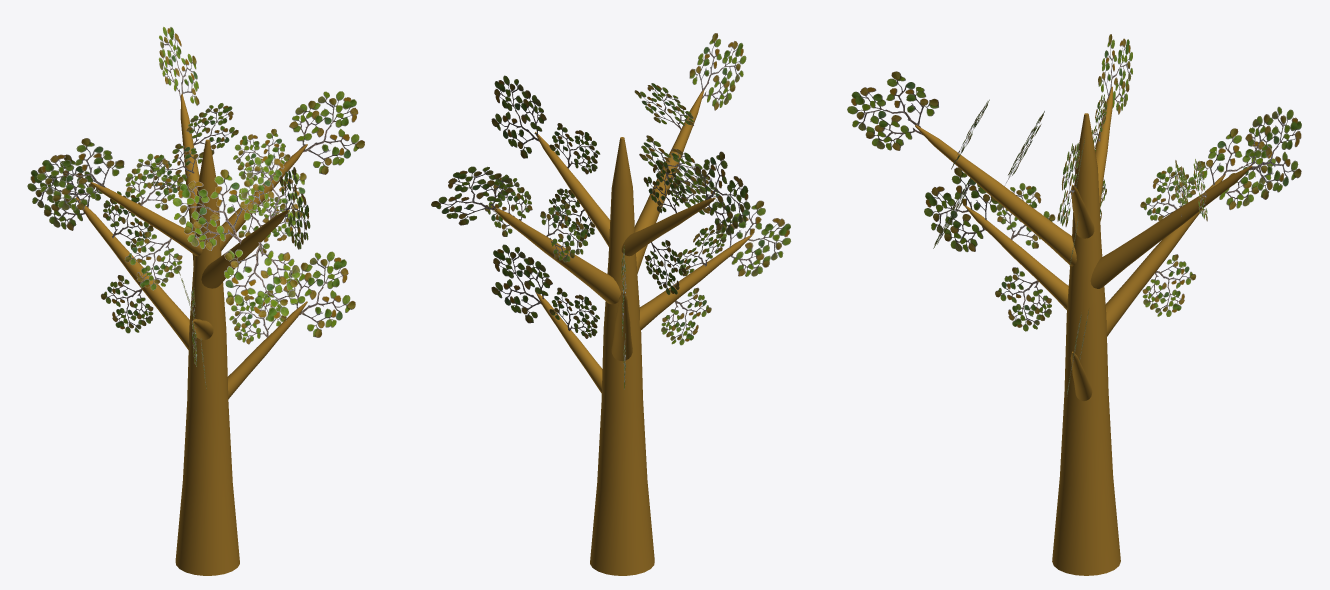
Rendered from basic tree.fbx.
3 renders of one model, left to right at view 1: azimuth 30°, elevation 25°; view 2: azimuth 150°, elevation 25°; view 3: azimuth 270°, elevation 25°, orthographic. The views are drawn at different scales.
Visible parts, largest first — view 1: Tree_Body, leaves017, leaves06, leaves05, leaves010, leaves01, branch03, leaves018, leaves011, leaves013, leaves012, branch02 (+13 smaller); view 2: Tree_Body, branch06, leaves09, leaves01, leaves07, leaves05, leaves010, leaves08, branch02, branch07, branch01, branch04 (+14 smaller); view 3: Tree_Body, branch02, branch06, leaves08, leaves07, leaves09, branch03, leaves011, branch07, leaves020, leaves015, leaves010 (+6 smaller).
Part boxes in pixels (x1,y1,x2,y2): Tree_Body: [175, 139, 239, 575]; leaves017: [224, 242, 300, 321]; leaves06: [172, 169, 256, 250]; leaves05: [289, 91, 364, 174]; leaves010: [36, 138, 124, 210]; leaves01: [283, 251, 355, 337]; branch03: [75, 197, 189, 349]; leaves018: [241, 154, 306, 219]; leaves011: [27, 154, 102, 230]; leaves013: [125, 231, 182, 290]; leaves012: [125, 153, 183, 210]; branch02: [201, 210, 288, 288]; Tree_Body: [590, 137, 654, 575]; branch06: [491, 206, 620, 304]; leaves09: [720, 200, 791, 276]; leaves01: [491, 244, 552, 323]; leaves07: [431, 166, 513, 225]; leaves05: [491, 75, 546, 158]; leaves010: [695, 151, 750, 235]; leaves08: [689, 33, 746, 110]; branch02: [635, 90, 704, 273]; branch07: [639, 235, 752, 329]; branch01: [535, 132, 610, 246]; branch04: [621, 197, 715, 256]; Tree_Body: [1052, 113, 1120, 575]; branch02: [915, 125, 1076, 266]; branch06: [1090, 165, 1252, 288]; leaves08: [847, 71, 938, 150]; leaves07: [1245, 106, 1301, 199]; leaves09: [924, 167, 998, 252]; branch03: [1105, 174, 1225, 336]; leaves011: [1196, 128, 1275, 210]; branch07: [964, 205, 1068, 309]; leaves020: [995, 267, 1051, 331]; leaves015: [1142, 254, 1196, 316]; leaves010: [1098, 34, 1132, 114].
Size of the model in its own units: 22.69 by 32.29 by 27.94.
